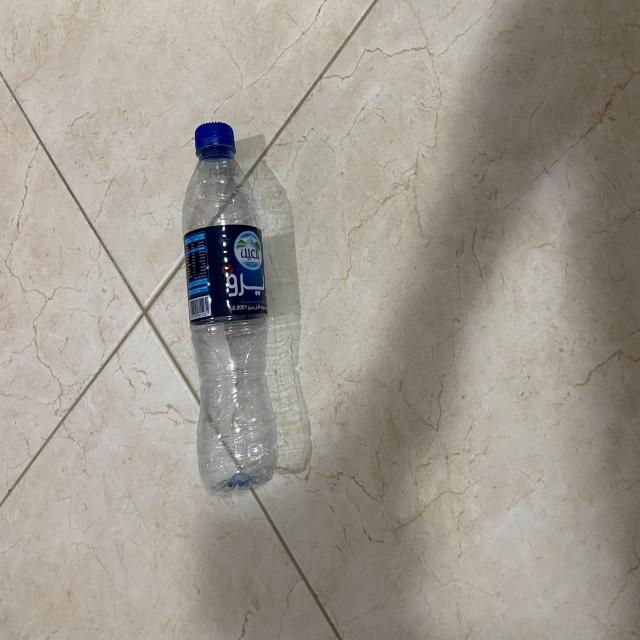bottle: (171, 104, 284, 498)
